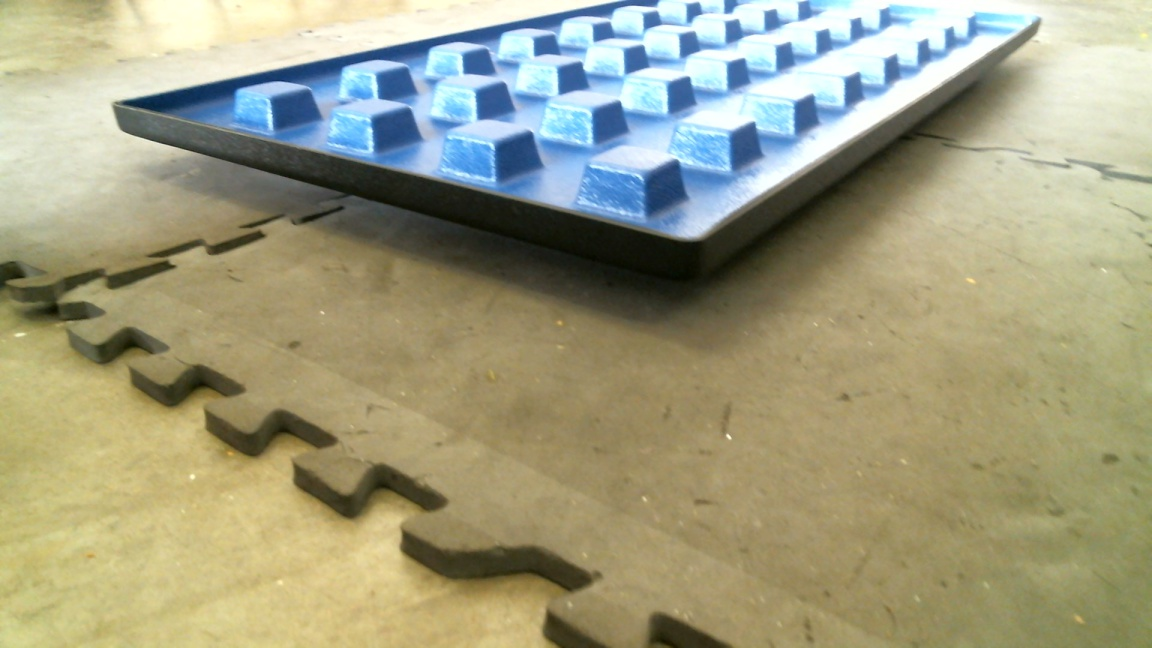blue_foundation: (107, 1, 1040, 268)
